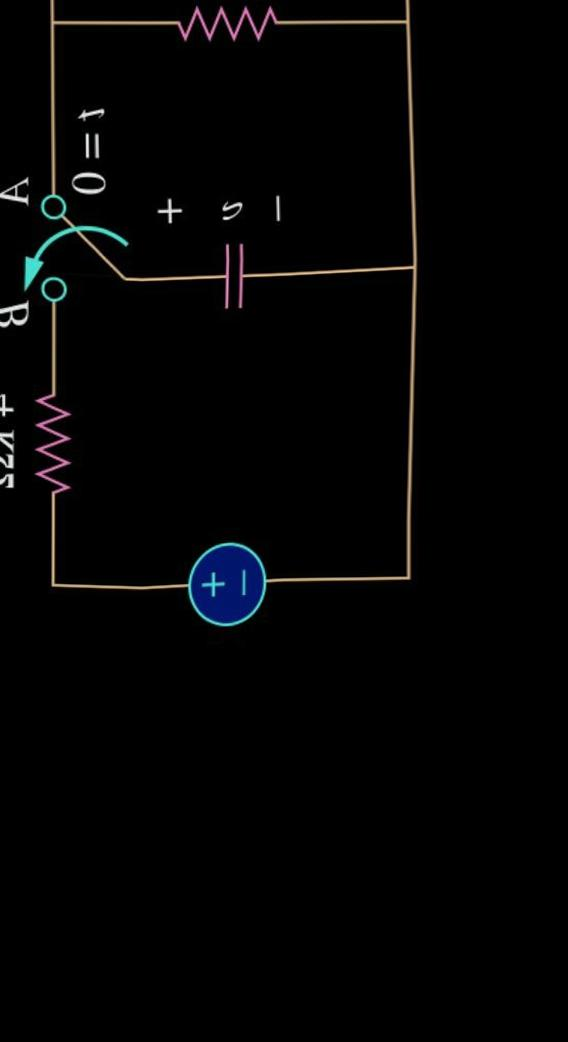Battery: (156, 505, 303, 646)
